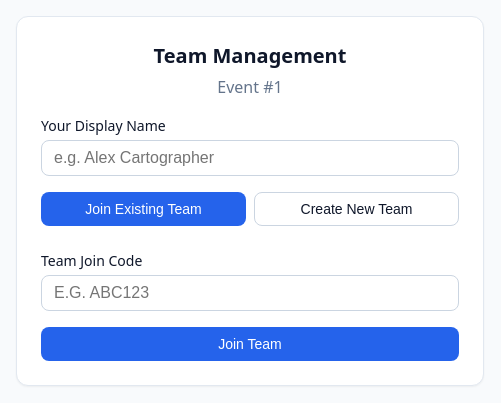
Test case: JoinTeamView Component › switches between join code tab and create team tab
This screenshot has width=501, height=403.
Expected: the field with id "joinCode" is shown, [41,275,459,311]
Switch to create tab
Click the button "Create New Team": (356, 209) [254,192,459,226]
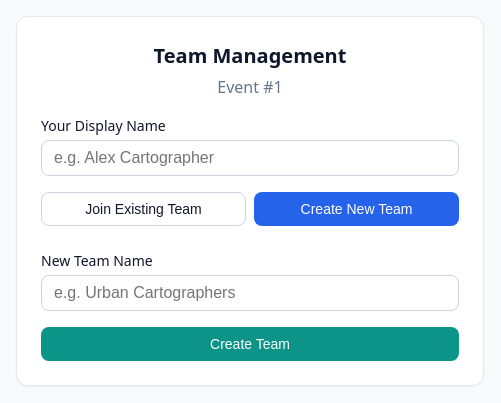
Expected: the field with id "teamName" is shown, [41,275,459,311]
